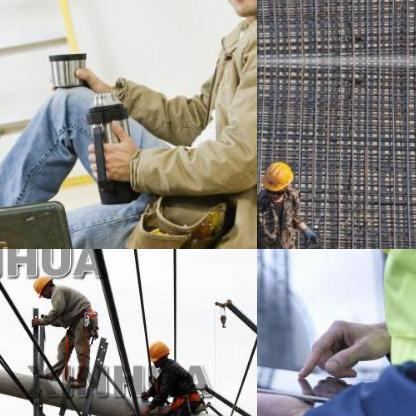Helmet: (262, 158, 296, 198), (144, 336, 172, 366), (30, 272, 58, 296)
